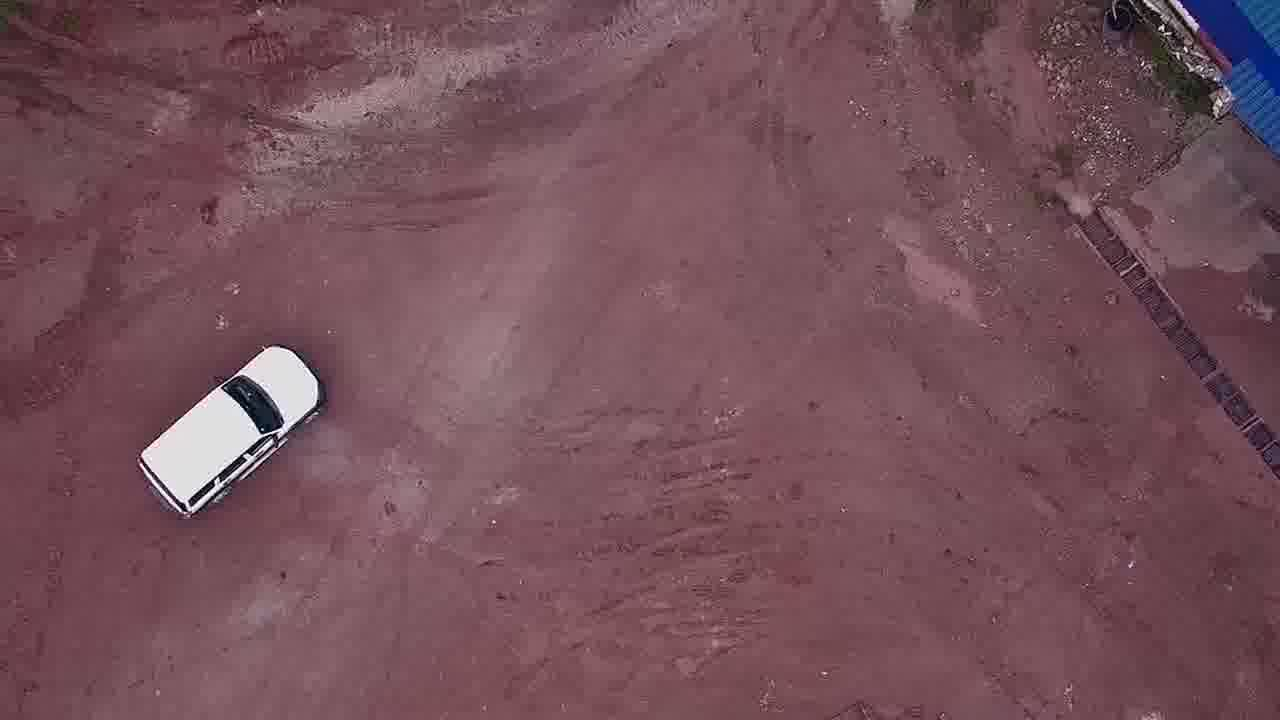light_motor_vehicle: (133, 340, 331, 520)
